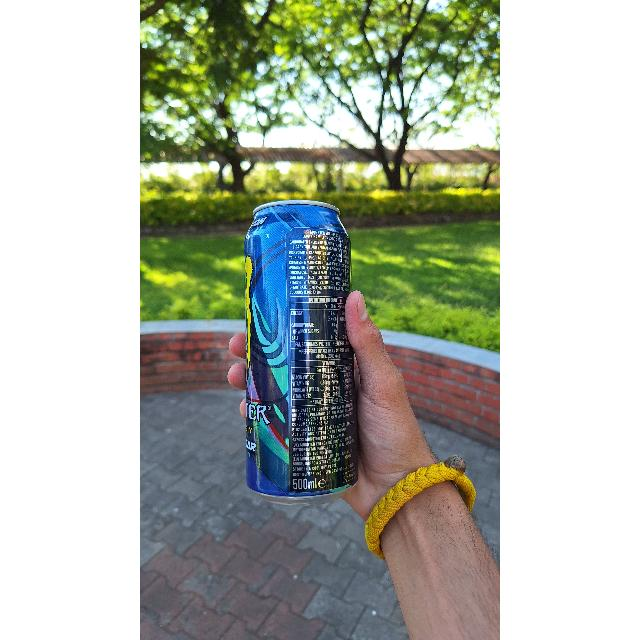Monster LH44: (241, 198, 369, 494)
